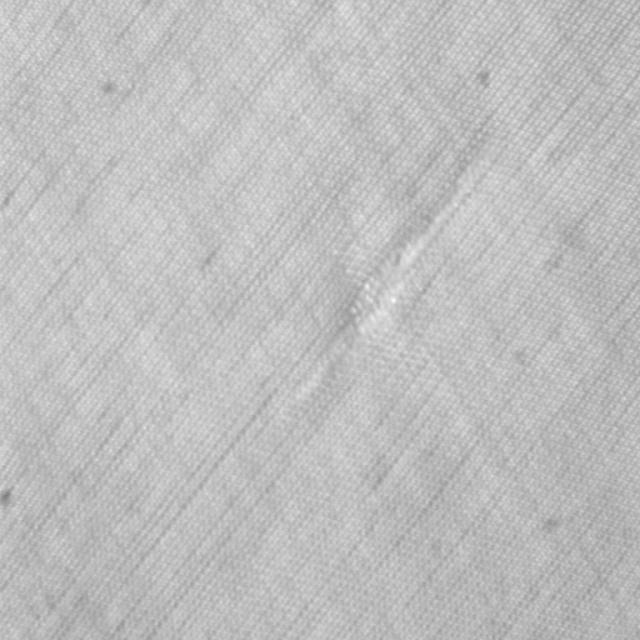thread error: (335, 191, 456, 364)
